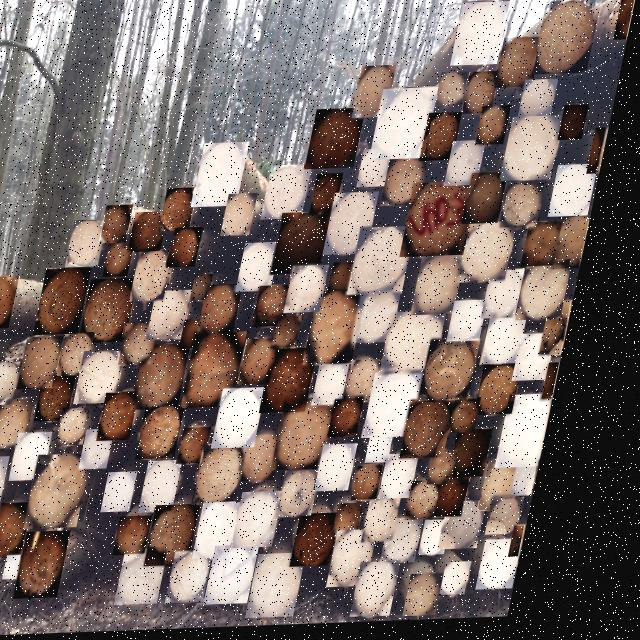wood-log: (416, 187, 483, 259), (51, 455, 108, 529), (540, 5, 597, 78), (381, 91, 438, 163), (295, 402, 352, 472), (204, 335, 256, 409), (365, 231, 421, 298), (521, 399, 570, 472), (401, 315, 457, 377), (327, 295, 375, 367), (512, 121, 565, 185), (387, 376, 438, 441), (152, 346, 202, 411), (53, 269, 101, 335), (316, 111, 367, 172), (43, 533, 90, 599), (277, 557, 326, 620), (458, 6, 507, 69), (287, 216, 337, 277), (441, 344, 491, 405), (98, 281, 146, 344), (282, 352, 330, 415), (205, 145, 251, 208), (337, 196, 384, 257), (474, 227, 524, 284), (173, 507, 219, 568), (217, 446, 263, 507), (423, 403, 470, 461), (234, 391, 279, 451), (534, 267, 581, 324), (429, 260, 474, 318), (233, 551, 279, 607), (144, 551, 188, 606), (356, 533, 398, 590), (8, 504, 51, 559), (260, 495, 302, 550), (318, 516, 360, 570), (220, 506, 261, 561), (274, 168, 316, 221), (380, 566, 422, 619), (96, 353, 137, 405), (561, 169, 602, 221), (158, 409, 199, 460), (495, 369, 536, 419), (359, 68, 397, 121), (372, 295, 412, 345), (502, 41, 541, 92), (505, 544, 544, 594), (37, 338, 75, 389), (195, 555, 234, 604), (394, 159, 433, 208), (146, 252, 183, 303), (476, 177, 513, 227), (466, 506, 505, 553), (164, 462, 199, 514), (32, 433, 69, 481), (472, 434, 509, 482), (252, 245, 288, 294), (500, 321, 538, 367), (164, 293, 201, 340), (301, 268, 338, 315), (532, 338, 569, 385), (215, 288, 251, 336), (301, 474, 339, 519), (262, 438, 299, 484), (12, 401, 47, 449), (118, 394, 153, 442), (504, 469, 541, 514), (339, 447, 374, 494), (498, 275, 533, 322), (407, 522, 444, 566), (79, 222, 114, 268), (258, 341, 293, 387), (431, 117, 465, 164), (513, 189, 550, 232), (567, 222, 598, 273), (455, 144, 490, 189), (403, 457, 437, 503), (536, 227, 570, 271), (56, 377, 89, 422), (1, 362, 34, 406), (464, 304, 499, 345), (0, 278, 28, 328), (363, 363, 397, 404), (0, 458, 24, 516), (172, 189, 203, 233), (332, 366, 364, 408), (433, 578, 465, 620), (75, 335, 107, 376), (138, 325, 170, 366), (270, 288, 302, 329), (233, 196, 264, 238), (470, 75, 501, 117), (389, 503, 419, 546), (142, 213, 175, 252), (525, 84, 559, 121), (139, 518, 172, 556), (556, 307, 580, 359), (125, 473, 155, 514), (512, 502, 544, 539), (459, 482, 489, 521), (181, 229, 210, 269), (367, 152, 397, 190), (430, 485, 460, 523), (102, 431, 131, 470), (321, 177, 349, 217), (349, 403, 379, 440), (485, 111, 514, 148), (77, 410, 106, 446), (199, 430, 228, 465), (113, 206, 139, 244), (444, 524, 472, 559), (567, 109, 592, 145), (286, 319, 314, 351), (375, 470, 402, 502), (443, 77, 469, 110), (451, 454, 476, 488), (117, 245, 143, 277), (470, 405, 496, 437), (358, 507, 383, 540), (469, 567, 494, 598), (535, 467, 557, 500), (342, 266, 367, 295), (595, 133, 610, 179), (619, 0, 635, 43), (196, 322, 217, 350), (387, 440, 410, 465), (204, 277, 224, 302), (560, 368, 572, 404), (533, 531, 545, 562), (29, 557, 45, 579)
